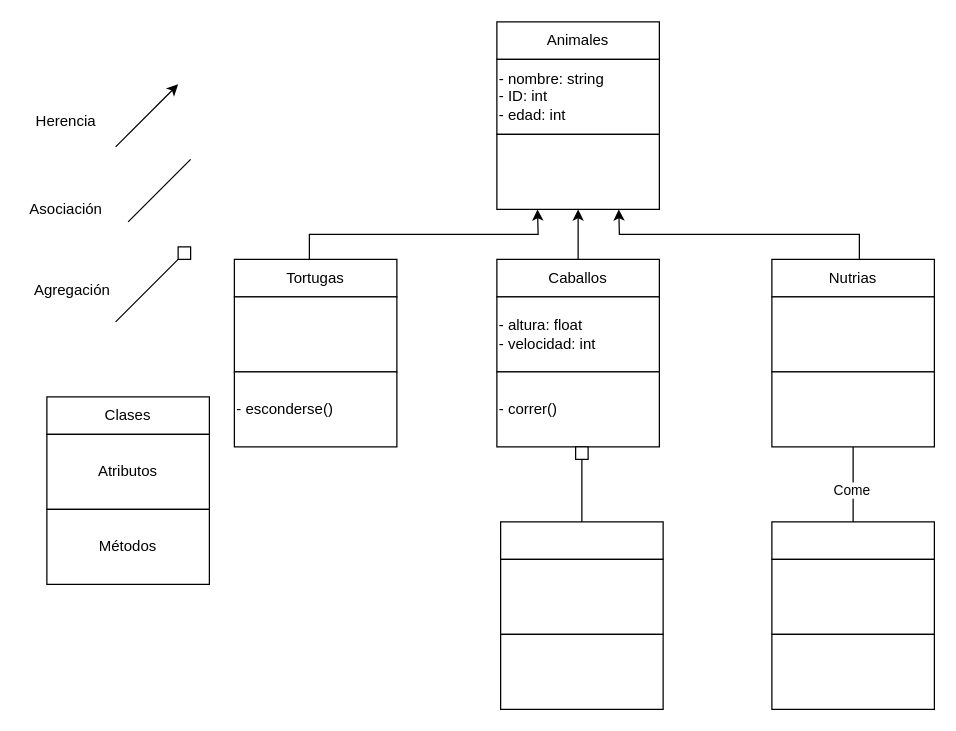
Some shapes in this 956 by 731 pixel diagram are drawn without their labels. The shapes that lost their labels are listed below. From the top down, each one's box as (x1, y1, x2, y2) in pixels, then its label:
(496, 133, 659, 209): - definirNombre() - comer()
(499, 521, 663, 559): Caballeriza
(771, 521, 934, 559): Erizos de mar
